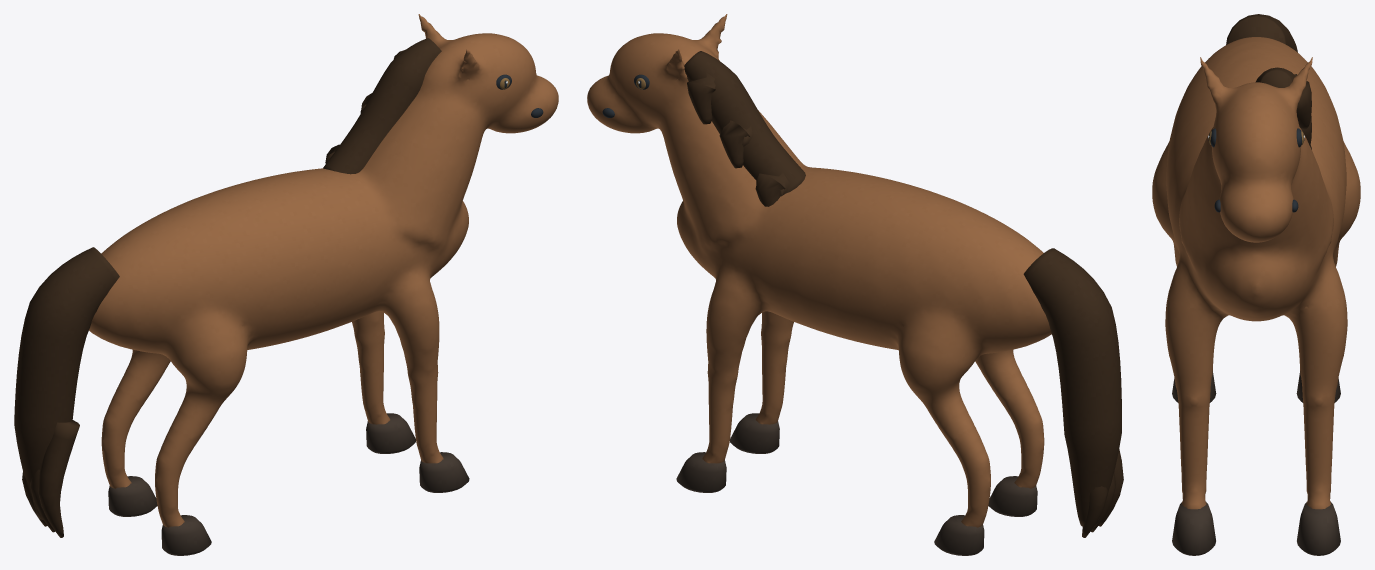
The model's file is horse-standing.glb.
3 views of the same model, side by side, from view 1: azimuth 30°, elevation 25°; view 2: azimuth 150°, elevation 25°; view 3: azimuth 270°, elevation 25° (orthographic). The views are drawn at different scales.
Visible parts, largest first — view 1: Continuous anatomical skin, Flowing full horse tail, Full rounded mane crest, Tapered tail lock, Unsplit sloping horse hoof, Unsplit sloping horse hoof.002, Unsplit sloping horse hoof.003, Unsplit sloping horse hoof.001; view 2: Continuous anatomical skin, Flowing full horse tail, Full rounded mane crest, Unsplit sloping horse hoof.002, Unsplit sloping horse hoof, Unsplit sloping horse hoof.001, Unsplit sloping horse hoof.003, Overlapping mane locks.001, Overlapping mane locks.002, Overlapping mane locks, Tapered tail lock.002; view 3: Continuous anatomical skin, Unsplit sloping horse hoof, Unsplit sloping horse hoof.002, Flowing full horse tail, Full rounded mane crest, Overlapping mane locks.002.
Part boxes in pixels (x1,y1,x2,y2): Continuous anatomical skin: (89,14,558,527); Flowing full horse tail: (14,247,119,519); Full rounded mane crest: (323,38,441,174); Tapered tail lock: (38,420,79,537); Unsplit sloping horse hoof: (419,452,469,492); Unsplit sloping horse hoof.002: (366,413,415,453); Unsplit sloping horse hoof.003: (108,476,157,516); Unsplit sloping horse hoof.001: (161,515,211,555); Continuous anatomical skin: (587,14,1051,527); Flowing full horse tail: (1023,248,1121,527); Full rounded mane crest: (684,51,805,193); Unsplit sloping horse hoof.002: (676,452,726,492); Unsplit sloping horse hoof: (730,413,779,453); Unsplit sloping horse hoof.001: (988,476,1037,516); Unsplit sloping horse hoof.003: (934,515,984,555); Overlapping mane locks.001: (719,120,752,168); Overlapping mane locks.002: (687,72,715,124); Overlapping mane locks: (755,172,789,206); Tapered tail lock.002: (1082,486,1107,537); Continuous anatomical skin: (1152,37,1360,509); Unsplit sloping horse hoof: (1172,502,1215,555); Unsplit sloping horse hoof.002: (1297,502,1340,555); Flowing full horse tail: (1226,14,1297,52); Full rounded mane crest: (1255,67,1295,87); Overlapping mane locks.002: (1294,74,1311,129).
Bounding box in the file's own units: 2.8 × 2.15 × 0.8091.
Materials: 6 (6 with a texture image).
